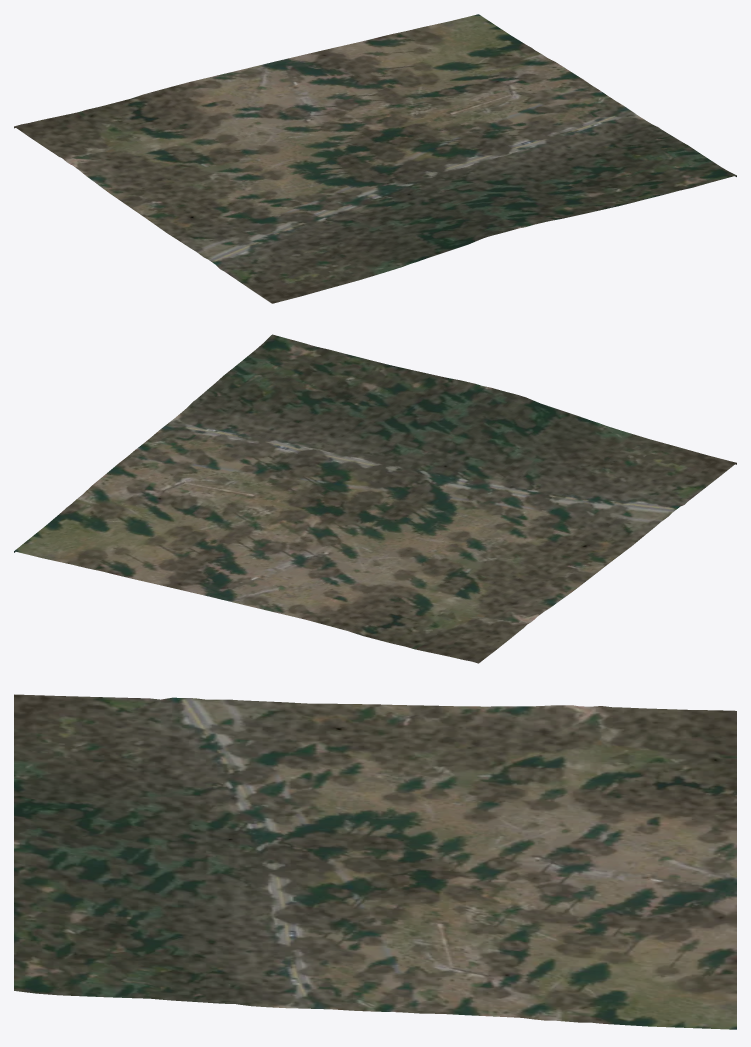
3 renders of one model, top to bottom at view 1: azimuth 30°, elevation 25°; view 2: azimuth 150°, elevation 25°; view 3: azimuth 270°, elevation 25°, orthographic. The views are drawn at different scales.
Size of the model in its own units: 250 by 15.56 by 241.
1 material, 1 textured.
